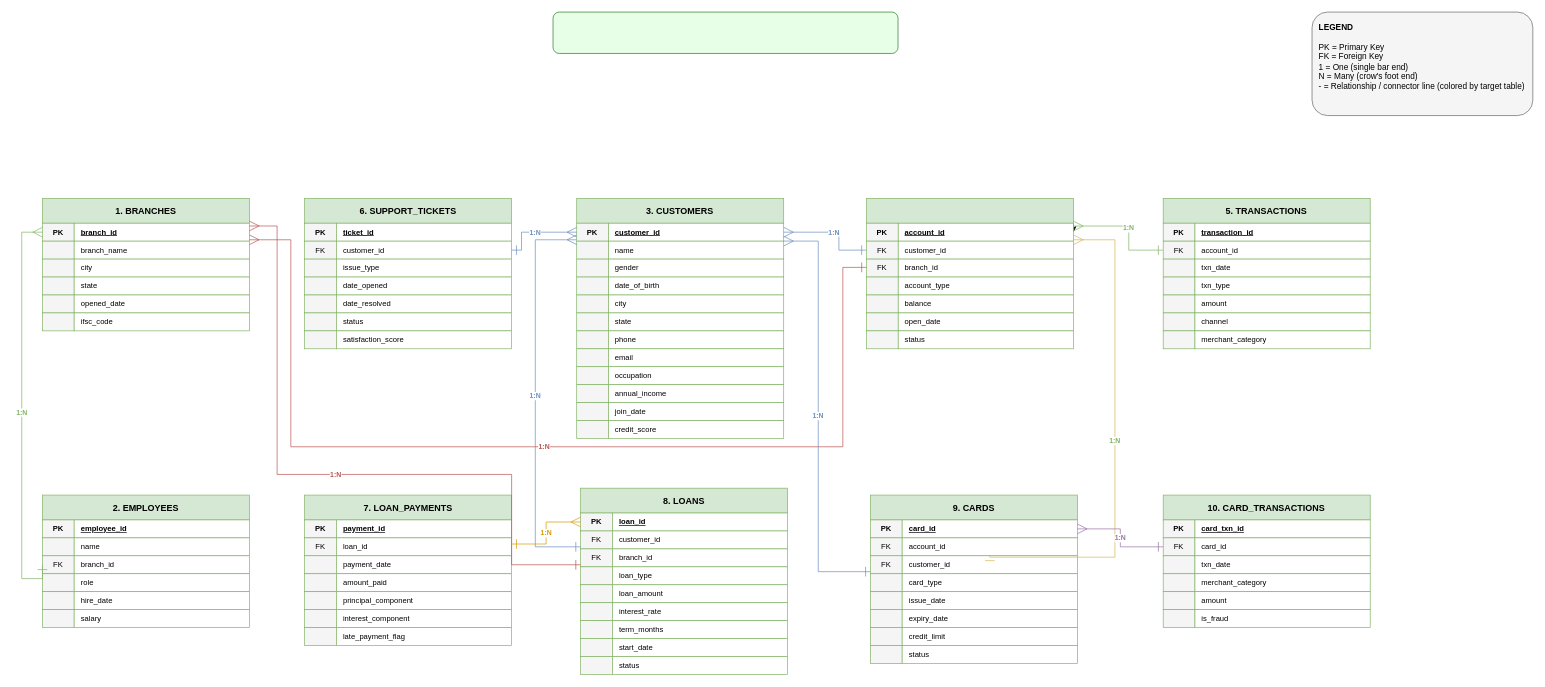
The diagram is 1545 pixels wide and 687 high, and some of its shapes have lost their labels. Each missing label, with the centre of its shape:
4. ACCOUNTS: pixel 970 210
BANKCORP DATABASE SCHEMA: pixel 725 32
